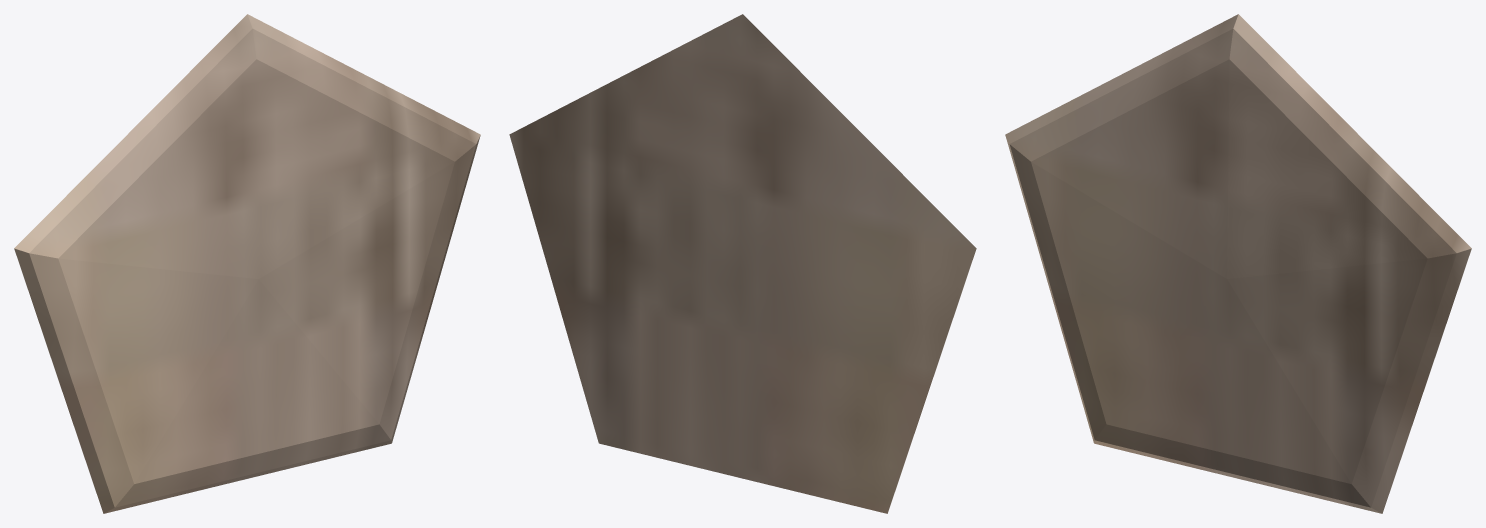
Rendered from dodecahedron_insert.fbx.
3 views of the same model, side by side, from view 1: azimuth 30°, elevation 25°; view 2: azimuth 150°, elevation 25°; view 3: azimuth 330°, elevation 25° (orthographic).
Parts seen in each view (by area): view 1: dodecahedron_insert; view 2: dodecahedron_insert; view 3: dodecahedron_insert.
Boxes of the visible parts, <box> form: dodecahedron_insert: <box>14,14,480,513</box>; dodecahedron_insert: <box>509,14,976,513</box>; dodecahedron_insert: <box>1005,14,1471,513</box>.
Size of the model in its own units: 138 by 131 by 5.86.
